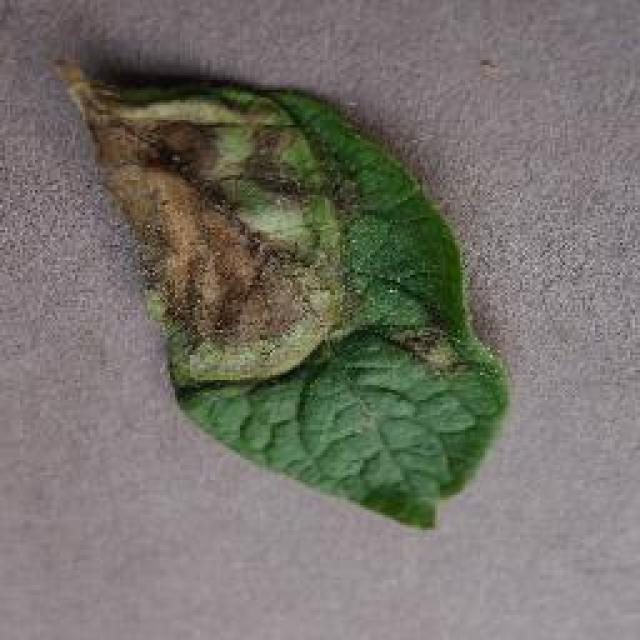Potato___Late_blight: (47, 48, 514, 537)
